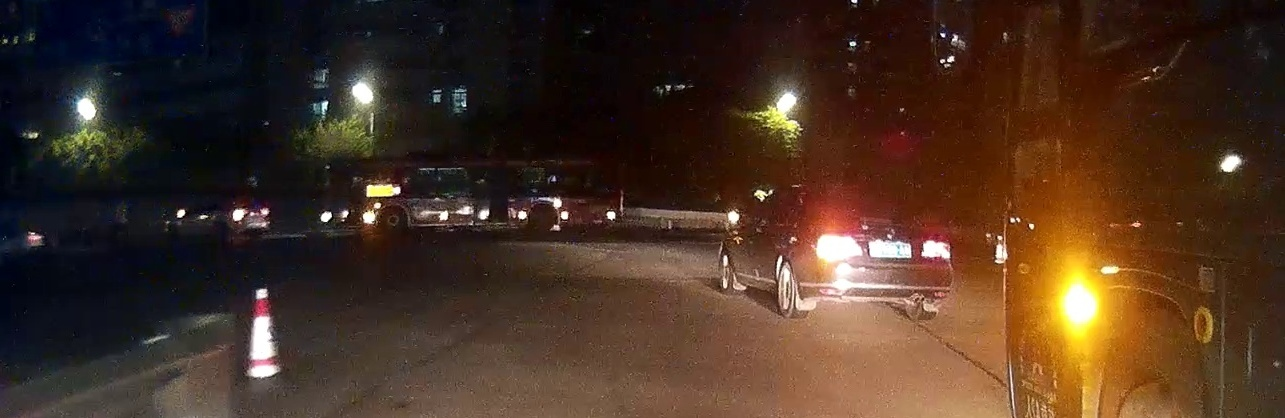L_light: (816, 234, 863, 258)
R_light: (922, 238, 952, 257)
T_light: (871, 190, 896, 197)
night-no: (811, 186, 954, 318)
